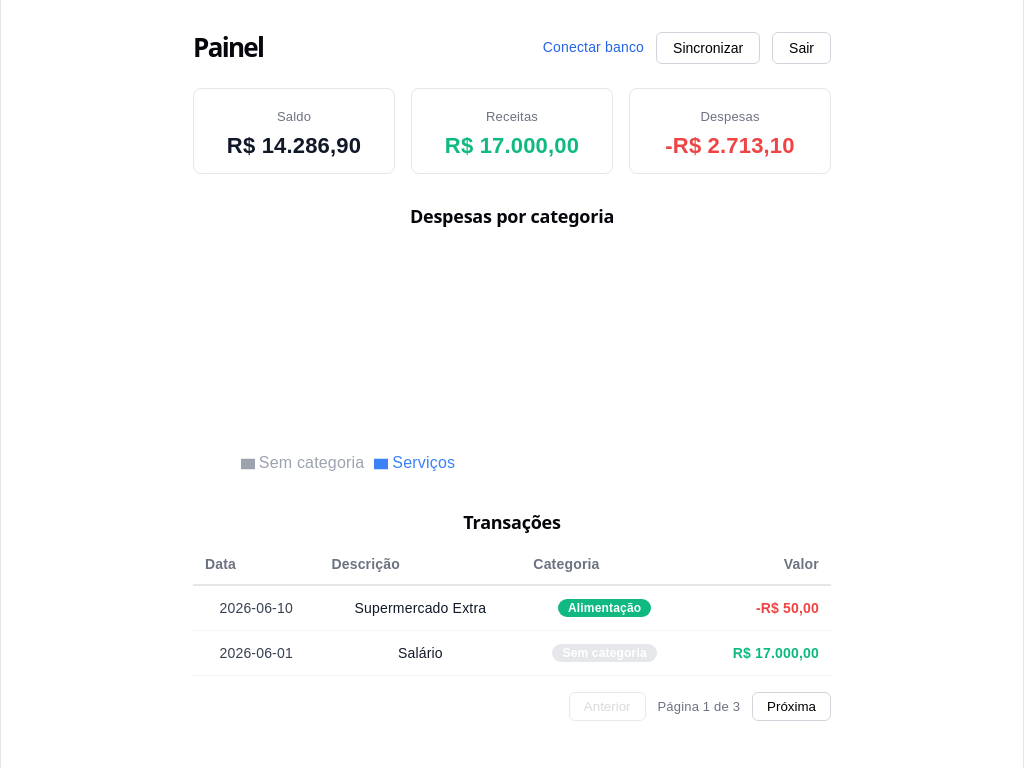
Test case: DashboardPage › after clicking Next, page-2 rows appear and page-1 rows disappear
Expected: the text "Supermercado Extra" is shown, x1=319 y1=585 x2=521 y2=631
Click the button "Próxima": (792, 707) x1=752 y1=692 x2=831 y2=722
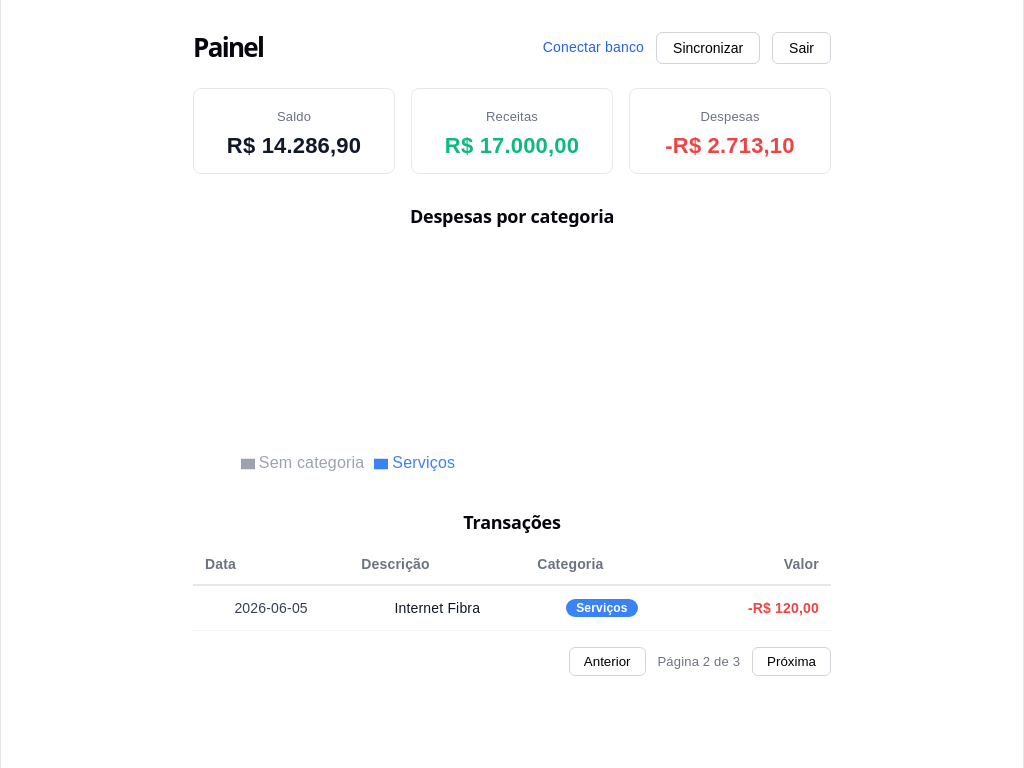
Now the text "Internet Fibra" is shown, box x1=349 y1=585 x2=525 y2=631
Now the text "Supermercado Extra" is gone
